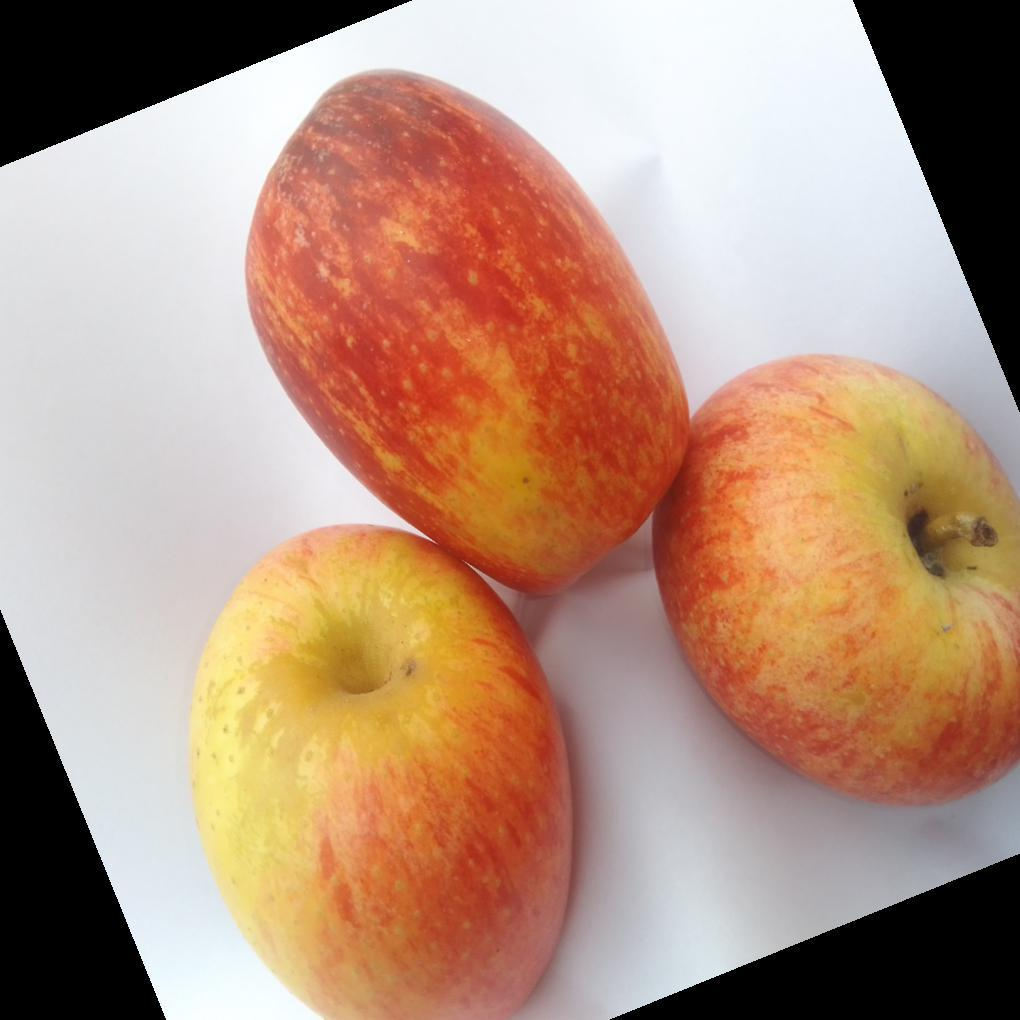FreshGuava: (187, 70, 1020, 1020)
